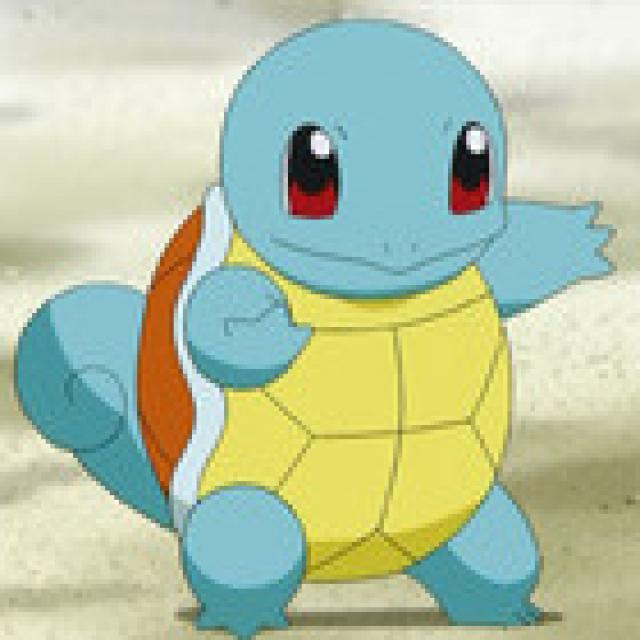Squirtle: (19, 13, 637, 639)
